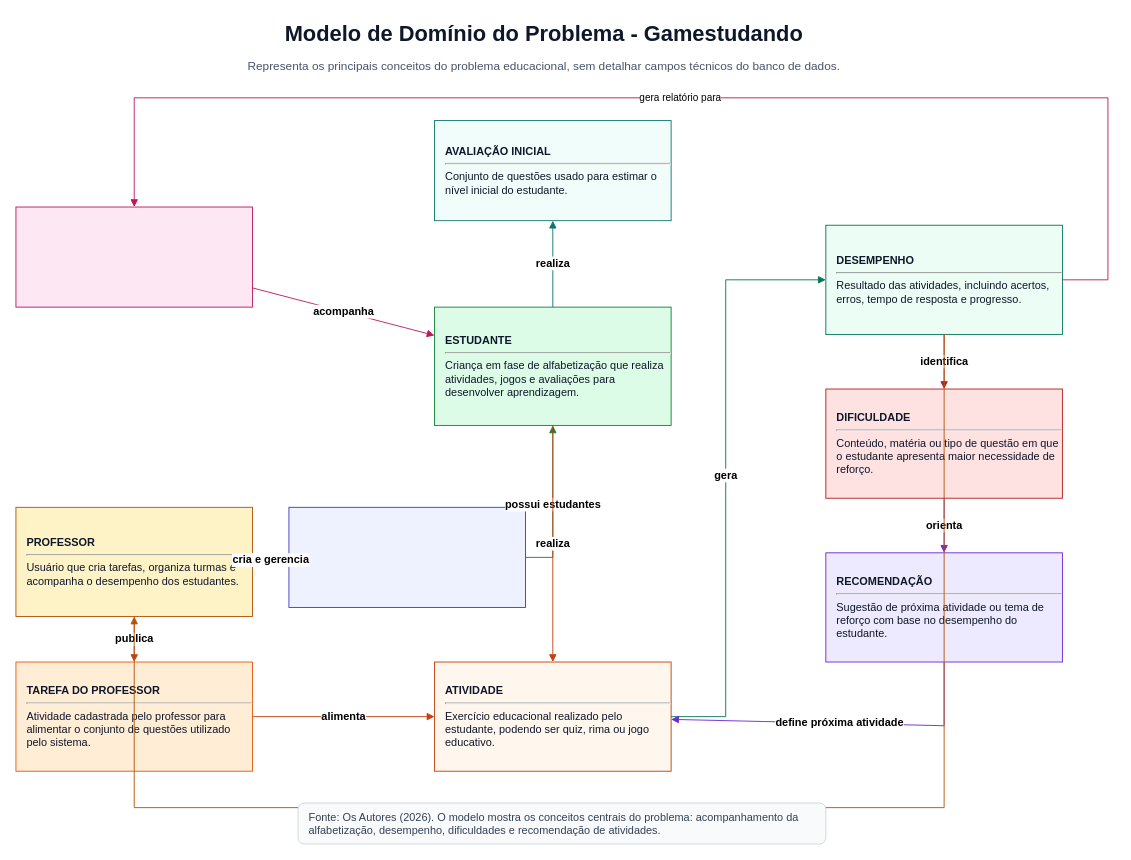
This 1131x860 diagram has some shape labels left out. The centre of each missing label's shape, as x and y in pixels:
"RESPONSÁVEL Usuário que acompanha a evolução do estudante vinculado à sua conta." goes at point 134,256.
"TURMA Grupo criado pelo professor para acompanhar vários estudantes em conjunto." goes at point 407,556.
